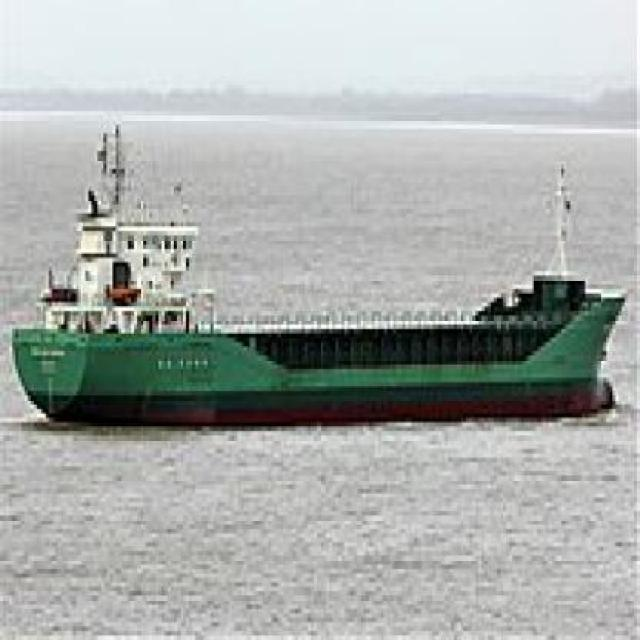container: (7, 121, 626, 432)
